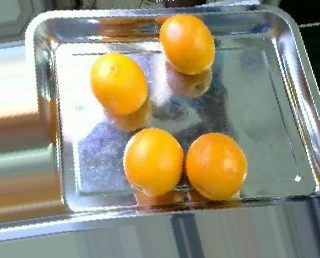Orange: (184, 131, 247, 200), (122, 126, 184, 196), (90, 52, 148, 115), (159, 13, 216, 76)
